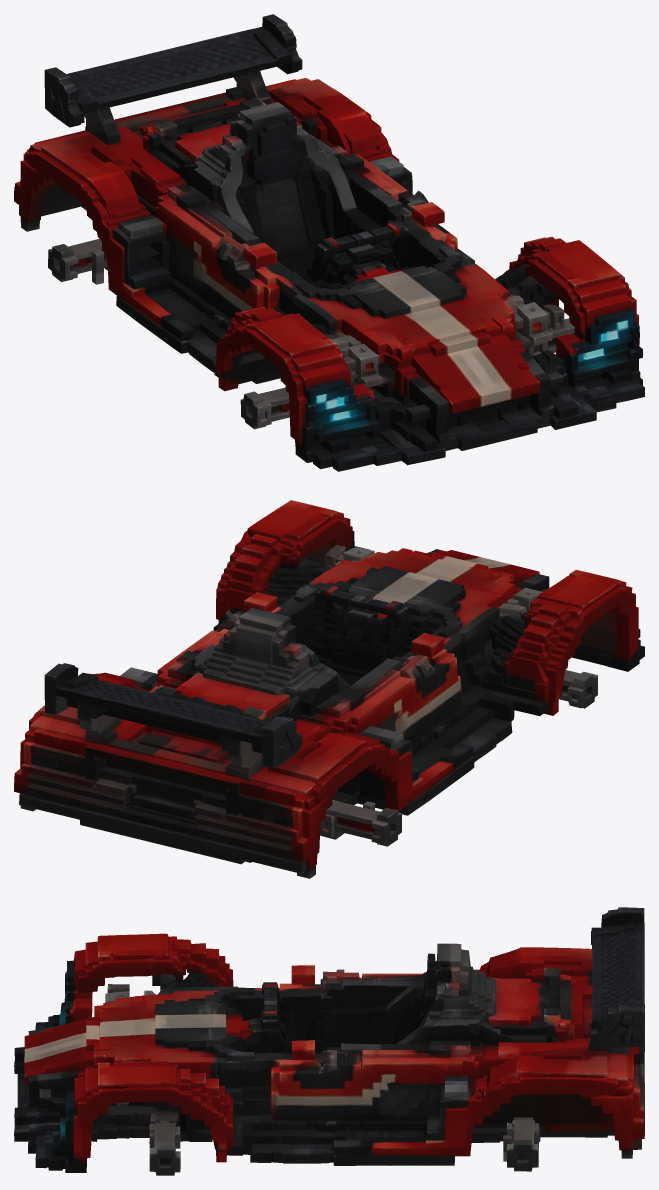
The model's file is falcon.glb.
The picture shows the model from 3 angles, top to bottom: view 1: azimuth 30°, elevation 25°; view 2: azimuth 150°, elevation 25°; view 3: azimuth 270°, elevation 25°; orthographic projection. The views are drawn at different scales.
Visible parts, largest first — view 1: model; view 2: model; view 3: model.
Boxes of the visible parts, <box> form: model: <box>14,14,644,471</box>; model: <box>14,500,644,878</box>; model: <box>14,907,644,1175</box>.
Size of the model in its own units: 1.09 by 0.4907 by 1.89.
Materials: 1 (1 with a texture image).
